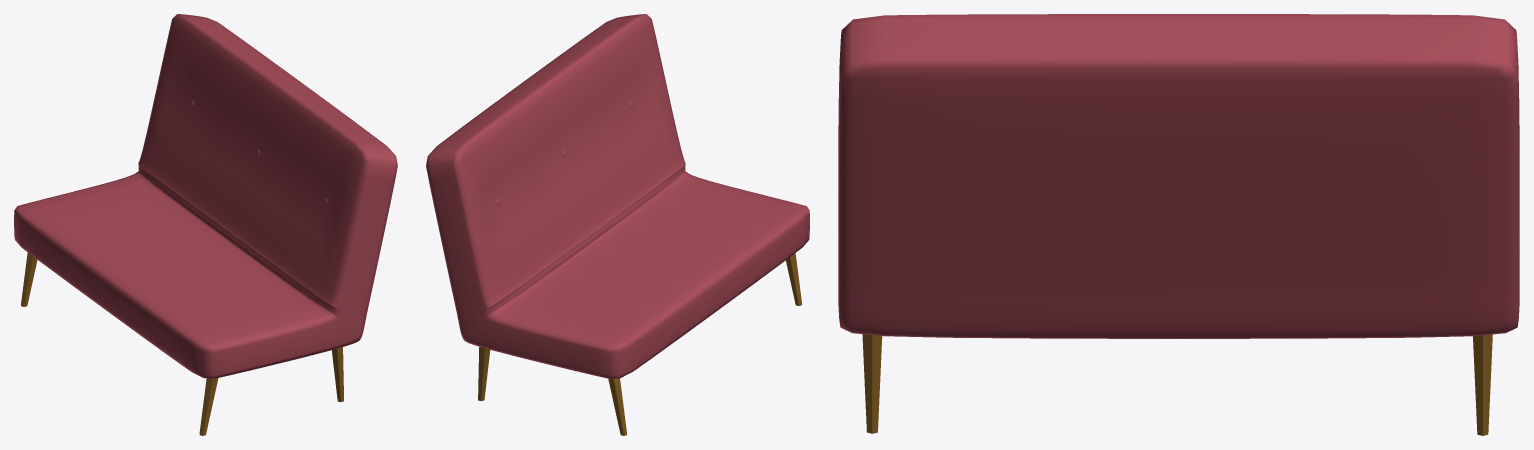
File: couch.fbx
The picture shows the model from 3 angles, left to right: view 1: azimuth 30°, elevation 25°; view 2: azimuth 150°, elevation 25°; view 3: azimuth 270°, elevation 25°; orthographic projection. The views are drawn at different scales.
Parts seen in each view (by area): view 1: polySurface2; view 2: polySurface2; view 3: polySurface2.
Part boxes in pixels (x1,y1,x2,y2): polySurface2: (14,14,397,435); polySurface2: (426,14,809,435); polySurface2: (838,14,1519,435).
Size of the model in its own units: 54.69 by 65.83 by 93.73.
